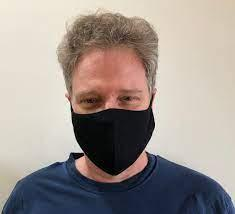mask: (68, 103, 162, 179)
